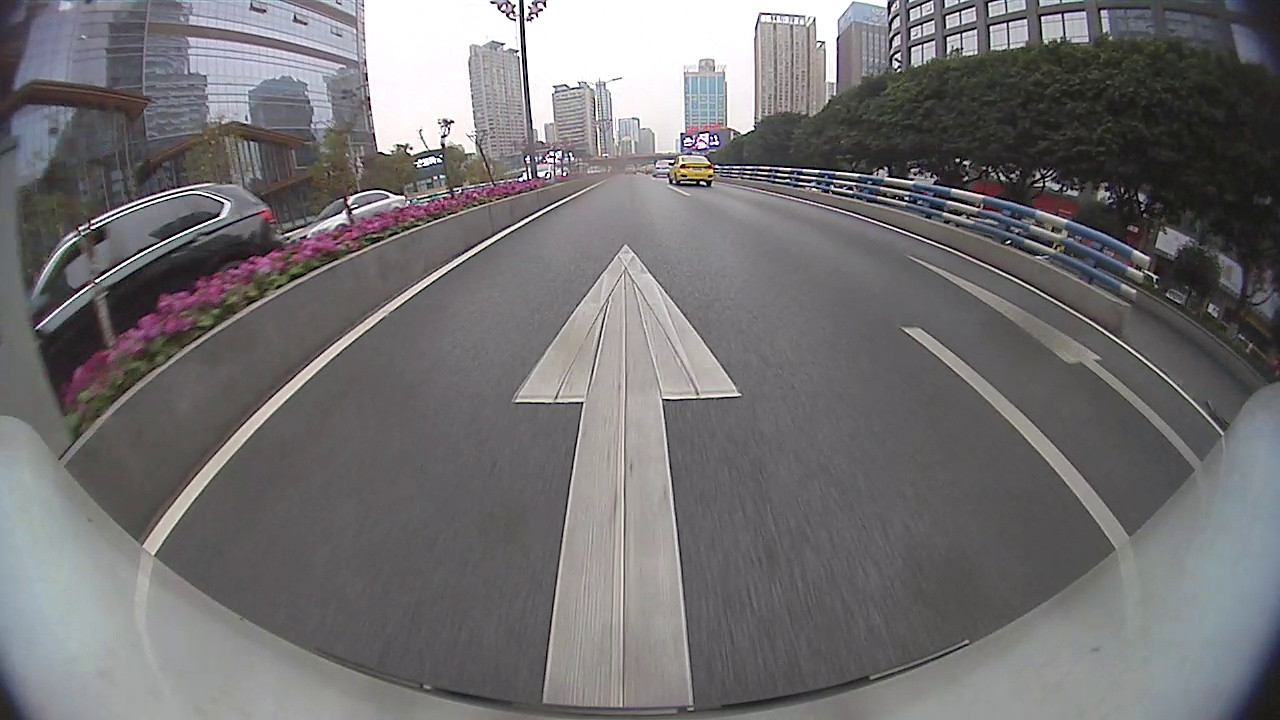car: (27, 179, 290, 406), (294, 187, 413, 243), (665, 149, 717, 189)
